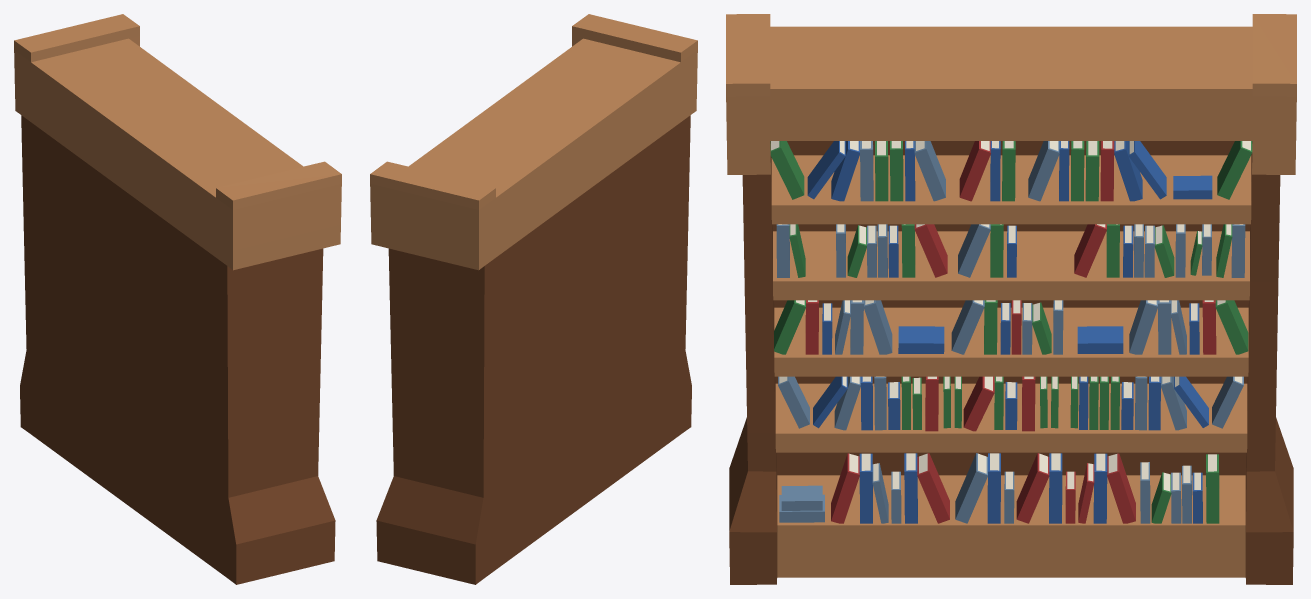
The model's file is BookCaseLargeBooks.glb.
3 renders of one model, left to right at view 1: azimuth 30°, elevation 25°; view 2: azimuth 150°, elevation 25°; view 3: azimuth 270°, elevation 25°, orthographic. The views are drawn at different scales.
Bounding box in the file's own units: 0.4519 × 1.53 × 1.57.
